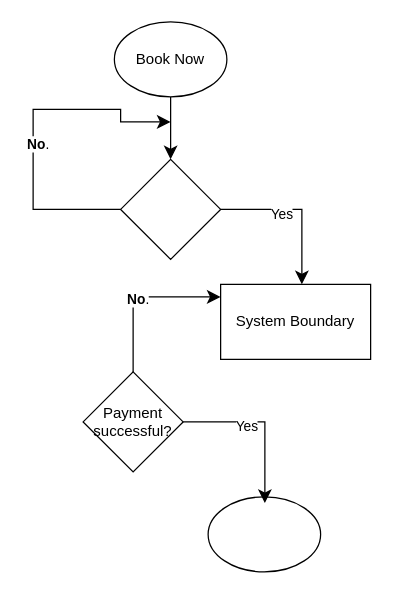
The diagram is 393 pixels wide and 594 high, and some of its shapes have lost their labels. Here are the shapes that lost their labels. From the top down, the centre of each, then its label:
At (x=170, y=208): "Are dates available?".
At (x=264, y=534): "Booking Confirmed".
